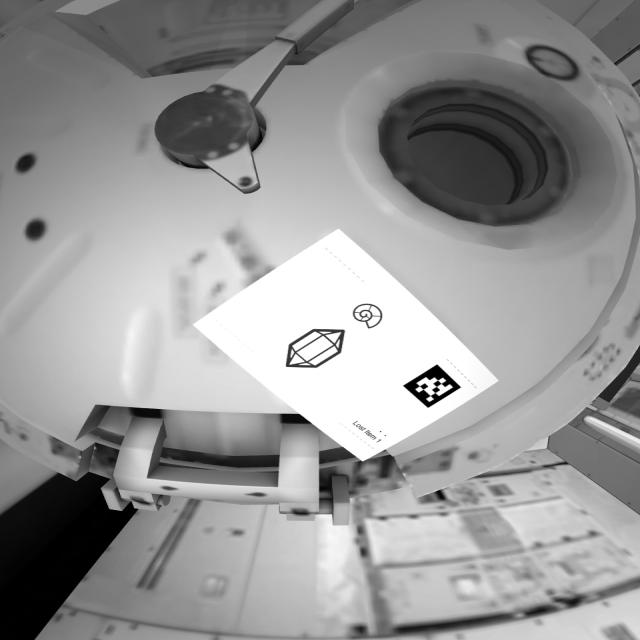crystal: (278, 321, 357, 383)
fossil: (352, 303, 393, 333)
